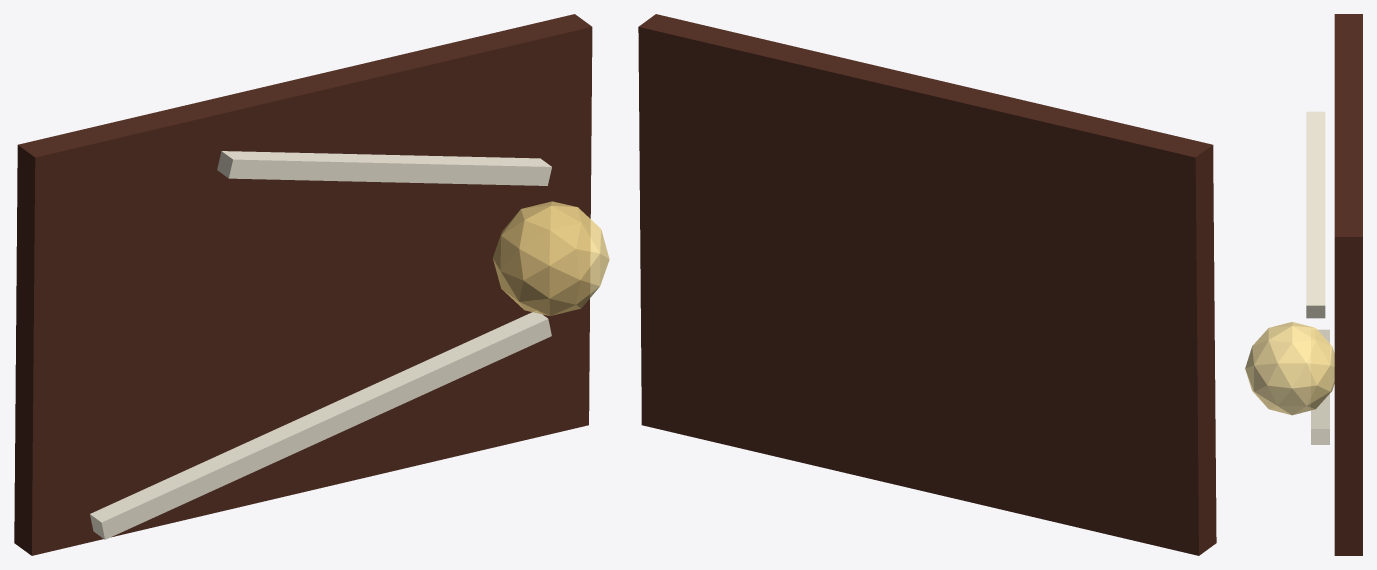
The model's file is 02_world_prop_polish.glb.
The picture shows the model from 3 angles, left to right: view 1: azimuth 30°, elevation 25°; view 2: azimuth 150°, elevation 25°; view 3: azimuth 270°, elevation 25°; orthographic projection. The views are drawn at different scales.
Parts seen in each view (by area): view 1: object_overlay_plate, edge_wear_a, glow_socket, edge_wear_b; view 2: object_overlay_plate; view 3: object_overlay_plate, glow_socket, edge_wear_b, edge_wear_a.
Part boxes in pixels (box(x1,y1,x2,y2)): object_overlay_plate: box(14, 14, 592, 555); edge_wear_a: box(90, 311, 551, 539); glow_socket: box(493, 201, 609, 315); edge_wear_b: box(217, 151, 551, 185); object_overlay_plate: box(638, 14, 1216, 555); object_overlay_plate: box(1334, 14, 1362, 555); glow_socket: box(1245, 322, 1334, 415); edge_wear_b: box(1306, 111, 1325, 318); edge_wear_a: box(1311, 329, 1329, 444).
Size of the model in its own units: 1.11 by 0.7598 by 0.25.
